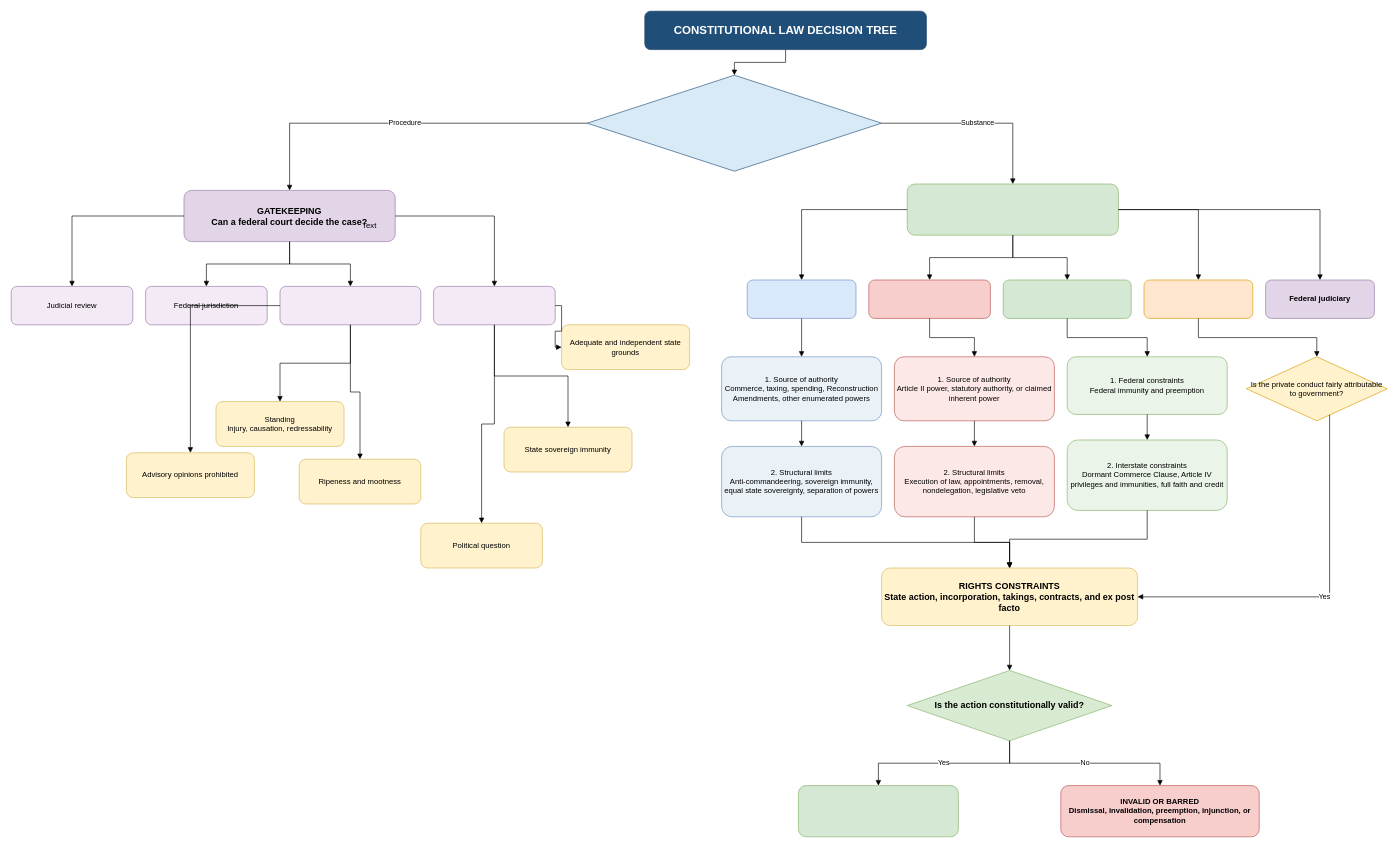
This 1398x848 diagram has some shape labels left out. Each missing label, with the centre of its shape:
"Article III case or controversy" goes at point (350, 305).
"Congress" goes at point (801, 298).
"MERITS Whose action is being challenged?" goes at point (1012, 209).
"Other judicial limits" goes at point (494, 305).
"President or executive" goes at point (929, 298).
"Private actor" goes at point (1198, 298).
"State or local government" goes at point (1067, 298).
"VALID Government action may stand" goes at point (878, 811).
"What constitutional issue is presented?" goes at point (734, 123).
